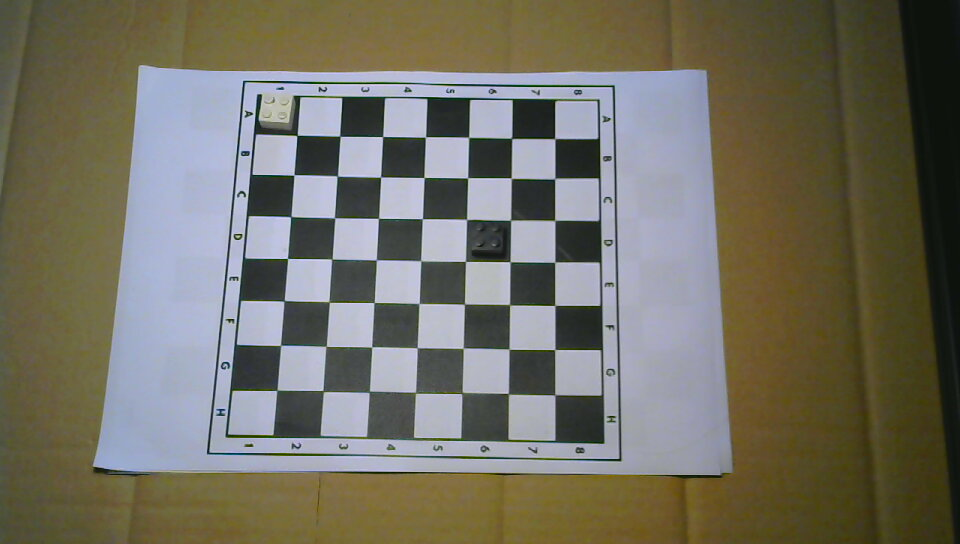bp: (470, 219, 506, 257)
wp: (256, 91, 295, 131)
